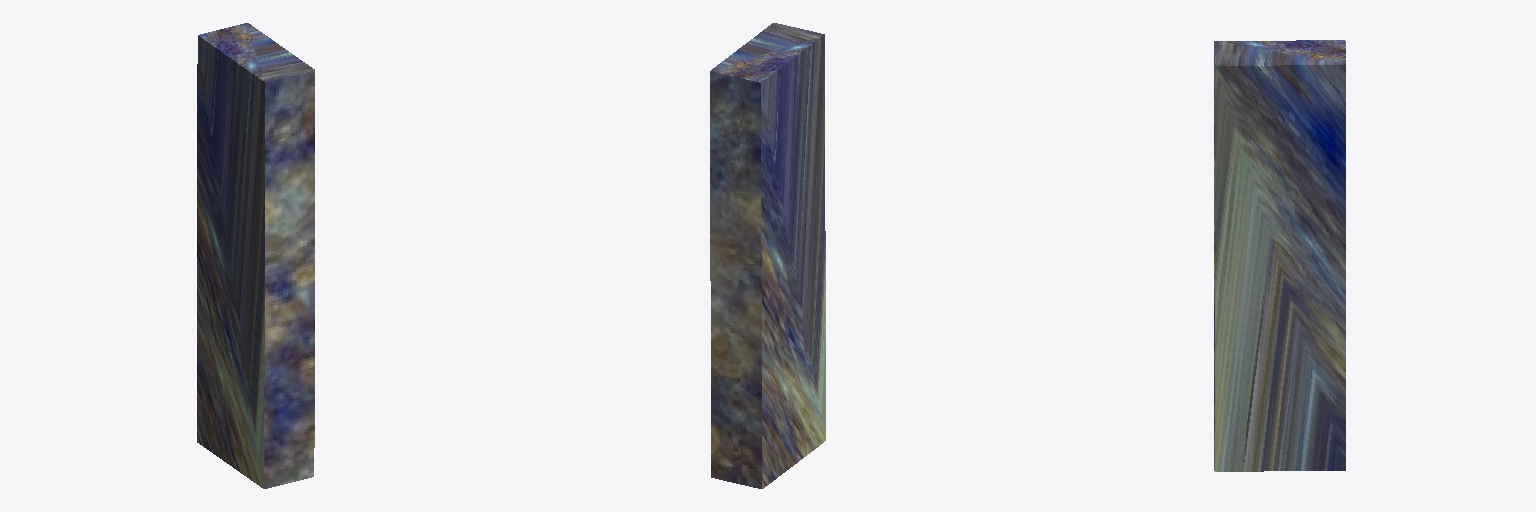
The picture shows the model from 3 angles: view 1: azimuth 30°, elevation 25°; view 2: azimuth 150°, elevation 25°; view 3: azimuth 270°, elevation 25°; orthographic projection.
Parts seen in each view (by area): view 1: l1_Mesh.001; view 2: l1_Mesh.001; view 3: l1_Mesh.001.
Boxes of the visible parts, <box> form: l1_Mesh.001: <box>197,23,314,488</box>; l1_Mesh.001: <box>710,23,825,488</box>; l1_Mesh.001: <box>1214,40,1345,471</box>.
Size of the model in its own units: 0.1296 by 0.9378 by 0.2777.
Materials: 1 (1 with a texture image).